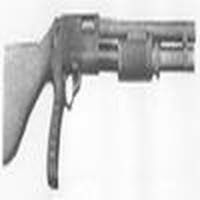gun: (2, 10, 199, 154)
